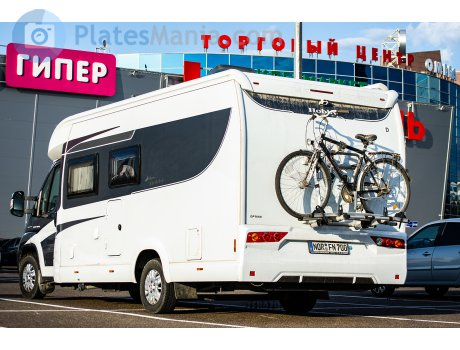License Plates: (310, 237, 348, 252)
